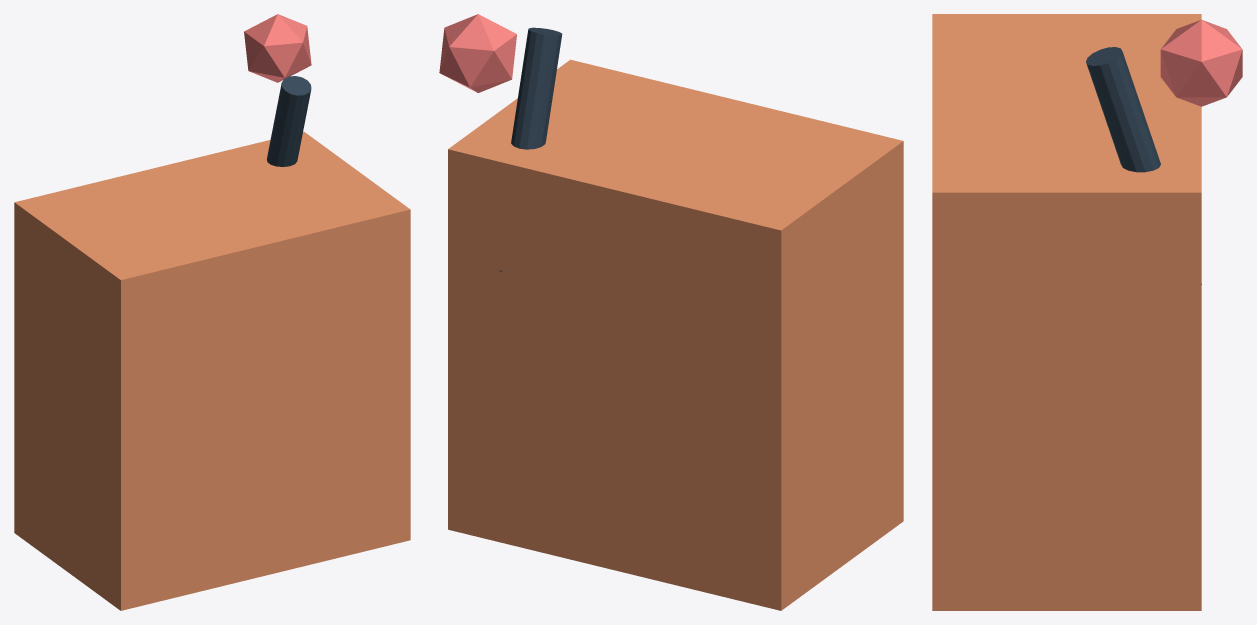
File: RoverPack.glb
The picture shows the model from 3 angles, left to right: view 1: azimuth 30°, elevation 25°; view 2: azimuth 150°, elevation 25°; view 3: azimuth 270°, elevation 25°; orthographic projection. The views are drawn at different scales.
Parts seen in each view (by area): view 1: MarsRust.008, Coral.002, Dark.044; view 2: MarsRust.008, Coral.002, Dark.044; view 3: MarsRust.008, Coral.002, Dark.044.
Boxes of the visible parts, x1=… form: MarsRust.008: x1=14, y1=131, x2=410, y2=610; Coral.002: x1=244, y1=14, x2=311, y2=82; Dark.044: x1=266, y1=76, x2=311, y2=166; MarsRust.008: x1=448, y1=59, x2=903, y2=610; Coral.002: x1=439, y1=14, x2=516, y2=92; Dark.044: x1=499, y1=27, x2=562, y2=271; MarsRust.008: x1=932, y1=14, x2=1201, y2=610; Coral.002: x1=1160, y1=19, x2=1242, y2=106; Dark.044: x1=1086, y1=47, x2=1201, y2=284.
Size of the model in its own units: 0.4447 by 0.66 by 0.3225.
